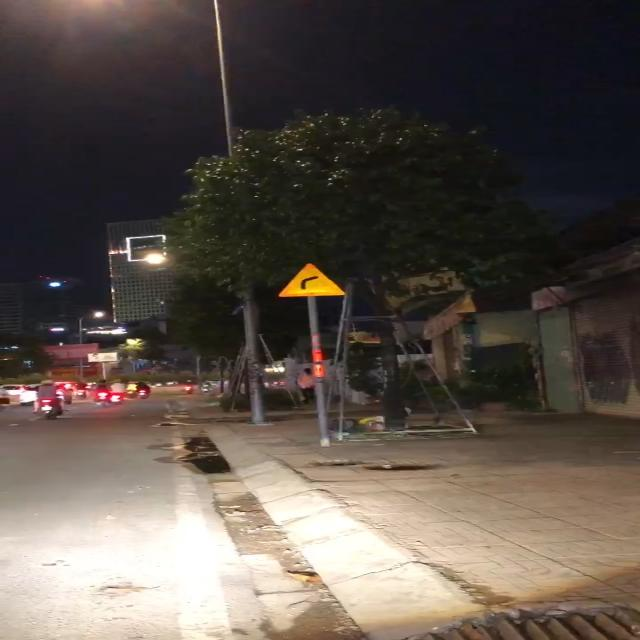Bien bao cho ngoat nguy hiem: (272, 259, 348, 301)
